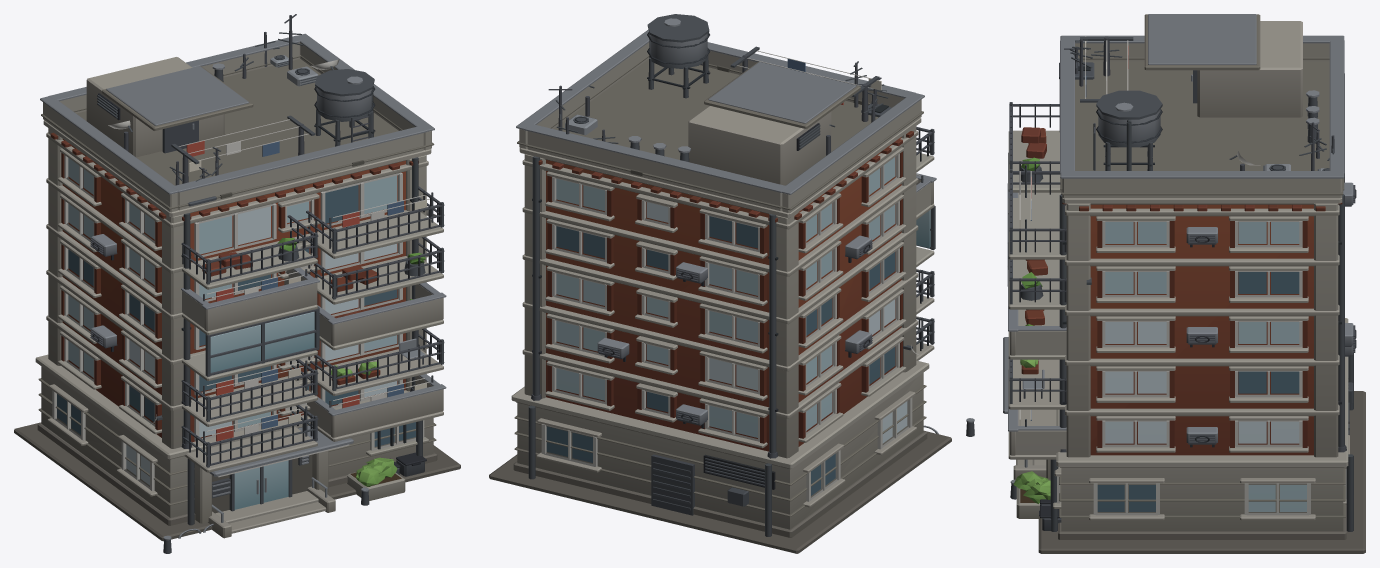
Rendered from hf-apartment-tower.glb.
3 views of the same model, side by side, from view 1: azimuth 30°, elevation 25°; view 2: azimuth 150°, elevation 25°; view 3: azimuth 270°, elevation 25° (orthographic). The views are drawn at different scales.
Visible parts, largest first — view 1: highrise_apartment_01; view 2: highrise_apartment_01; view 3: highrise_apartment_01.
Boxes of the visible parts, x1,y1,x2,y2 form: highrise_apartment_01: (14, 14, 460, 553); highrise_apartment_01: (489, 14, 974, 553); highrise_apartment_01: (1003, 14, 1365, 553).
Size of the model in its own units: 16.29 by 18.99 by 15.14.
